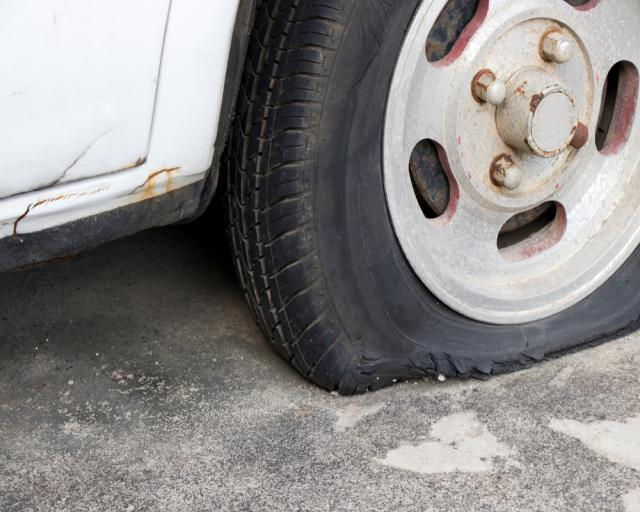tire flat: (227, 0, 640, 400)
